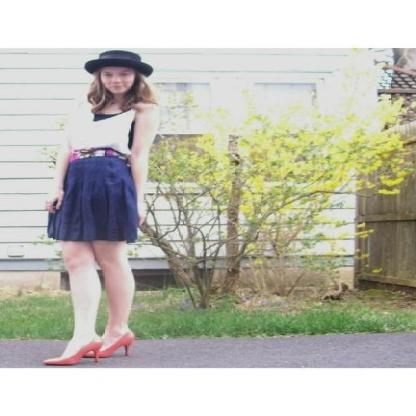hat: (87, 50, 152, 84)
shirt: (69, 102, 134, 156)
shoe: (63, 334, 138, 368)
skirt: (38, 142, 136, 246)
